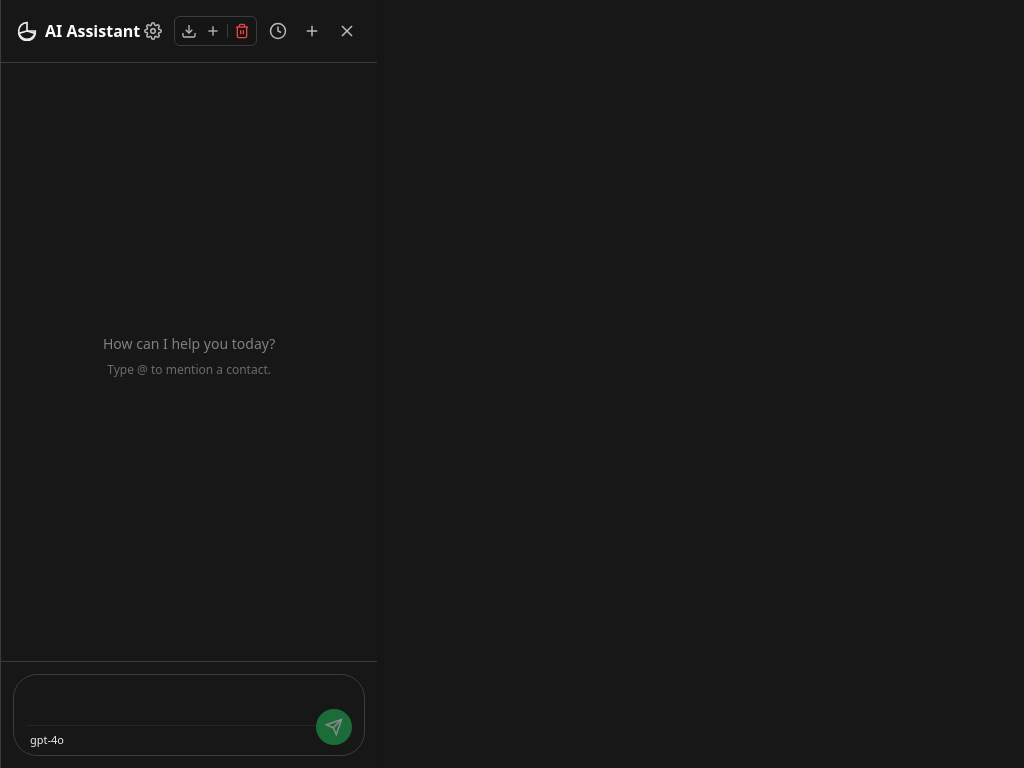
it: AIChatSidebar › opens AIChatHistoryModal when history button is clicked
Click the button titled "History". click: (278, 31)
box: [265,16,291,46]
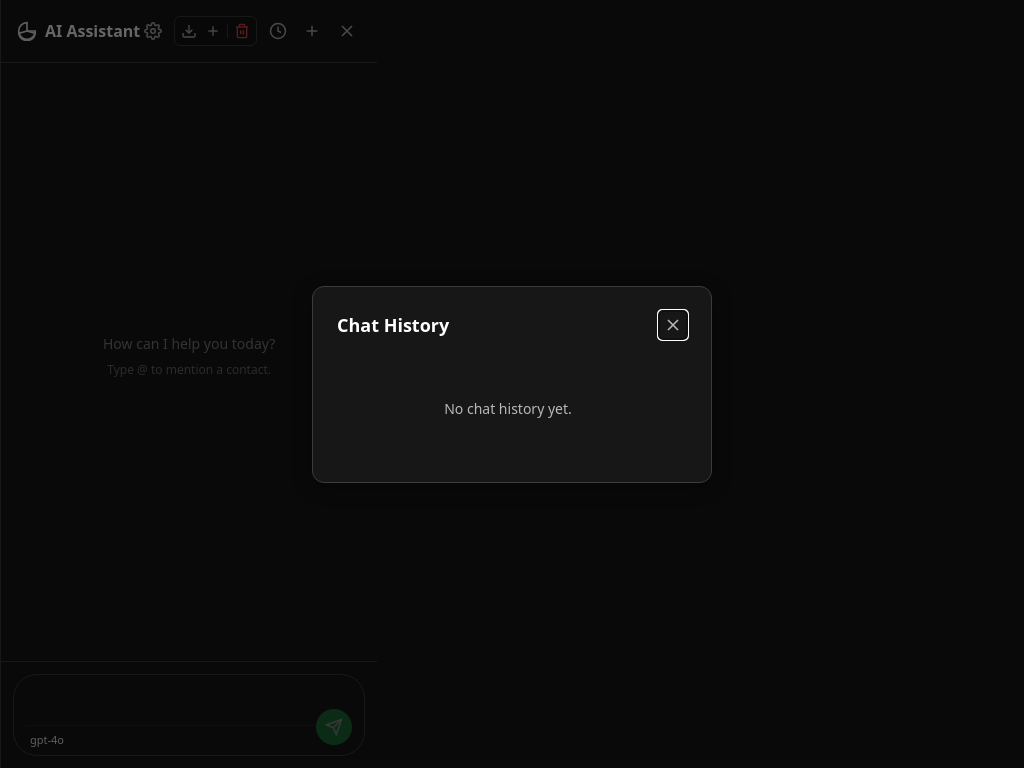
Expected: the heading "Chat History" is shown, [337,312,449,336]
